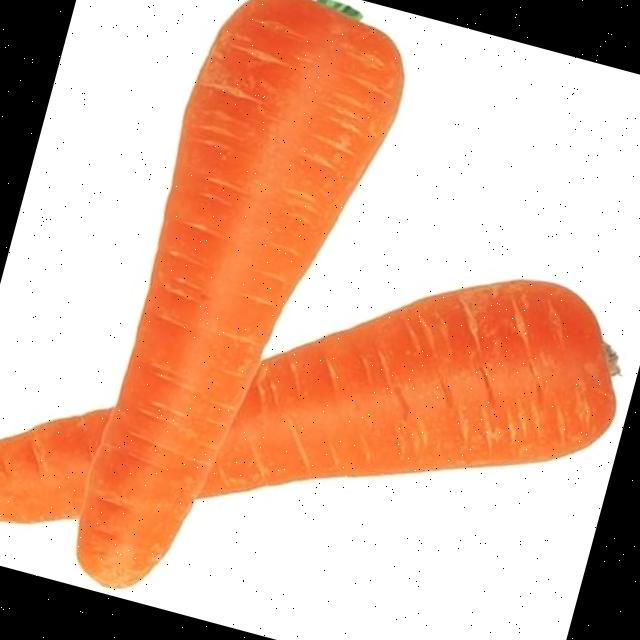carrot: (78, 0, 402, 587), (0, 280, 614, 524)
